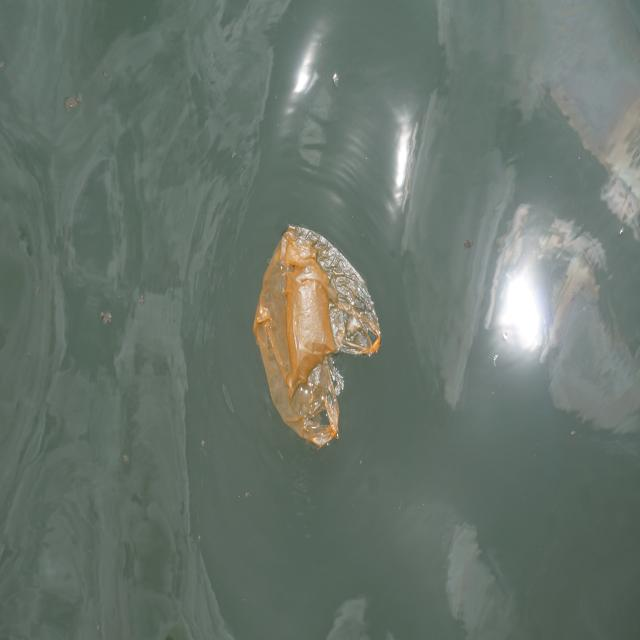Kantong Plastik: (251, 223, 385, 453)
